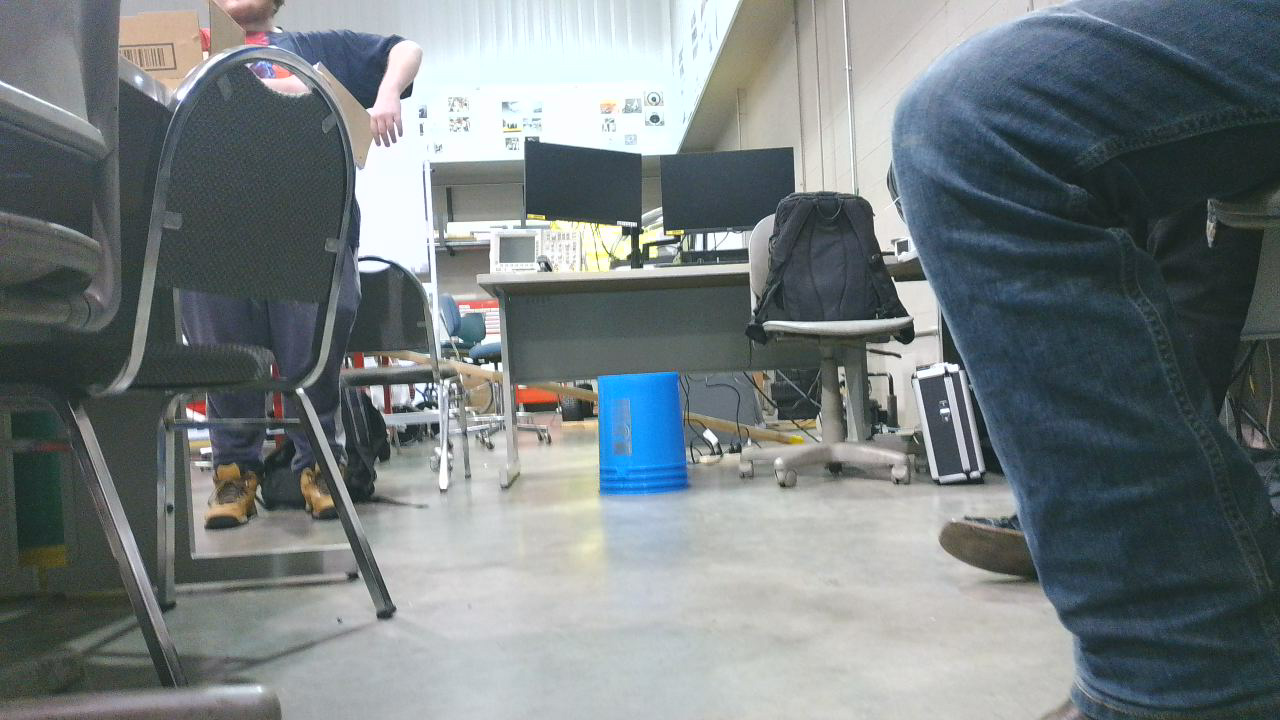blue_bucket: (595, 373, 702, 506)
